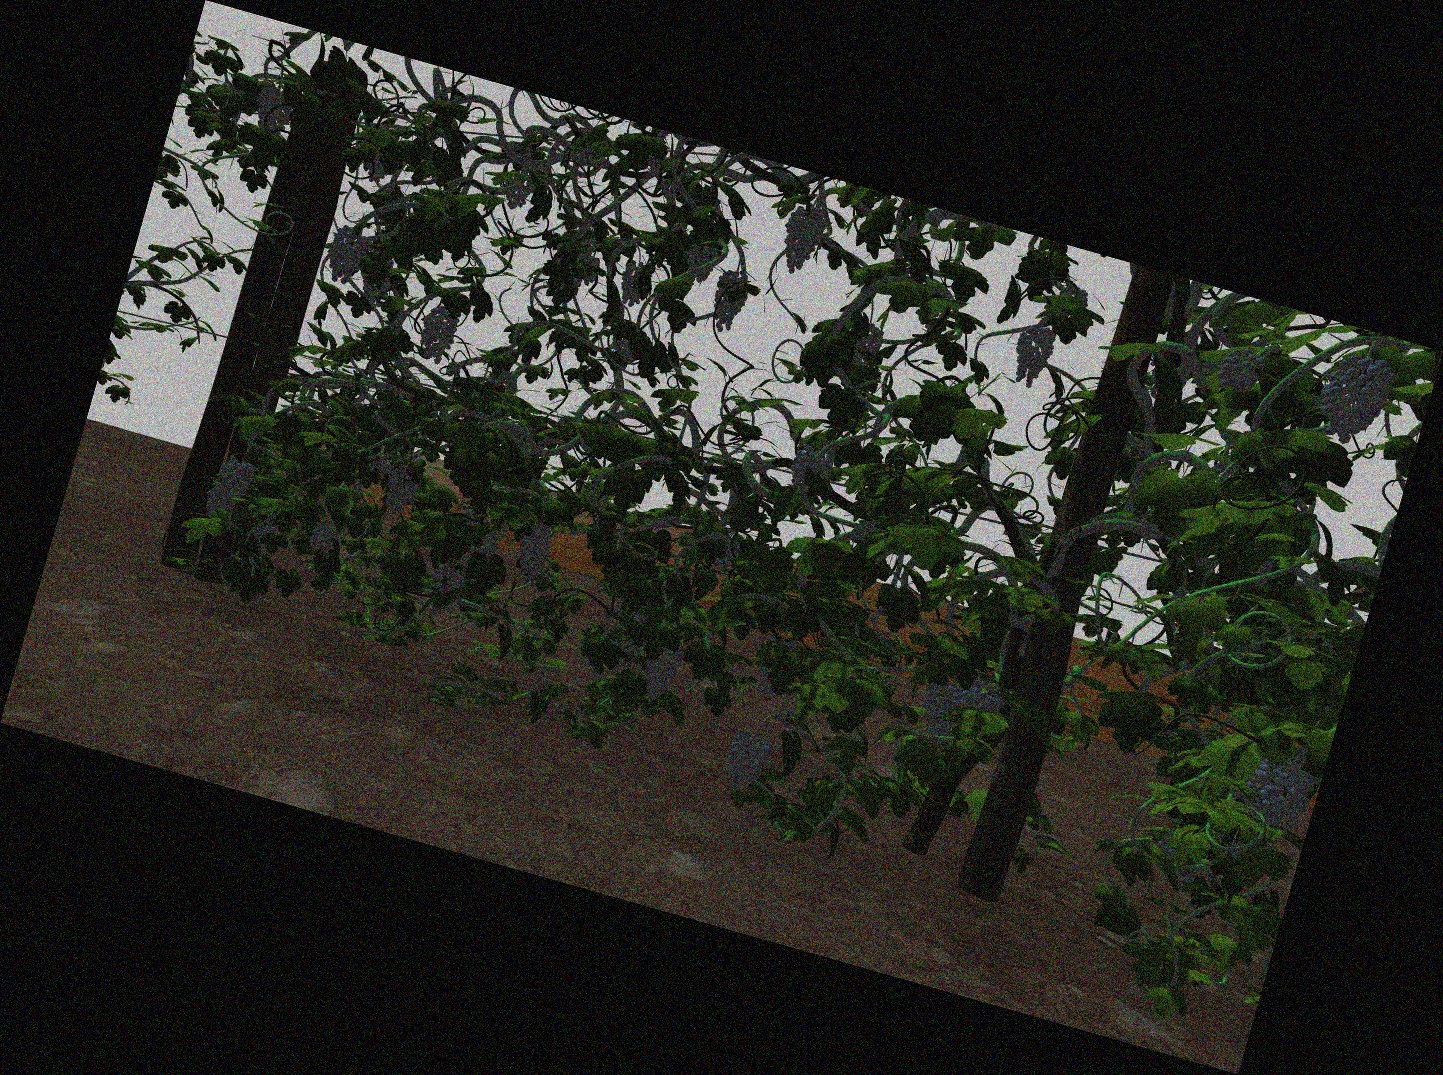grape: (1320, 351, 1389, 448), (1248, 748, 1313, 837), (782, 208, 824, 274), (725, 731, 766, 794), (1013, 323, 1051, 387), (326, 227, 368, 283), (420, 304, 457, 362), (642, 643, 677, 705), (1221, 343, 1265, 392), (922, 682, 960, 738), (712, 271, 745, 334), (253, 85, 292, 134), (521, 522, 550, 580), (792, 453, 831, 493), (385, 464, 417, 514), (221, 457, 252, 500), (620, 261, 648, 306), (431, 561, 466, 597), (967, 682, 1004, 716), (686, 244, 717, 283), (308, 521, 340, 553), (205, 486, 235, 518)
